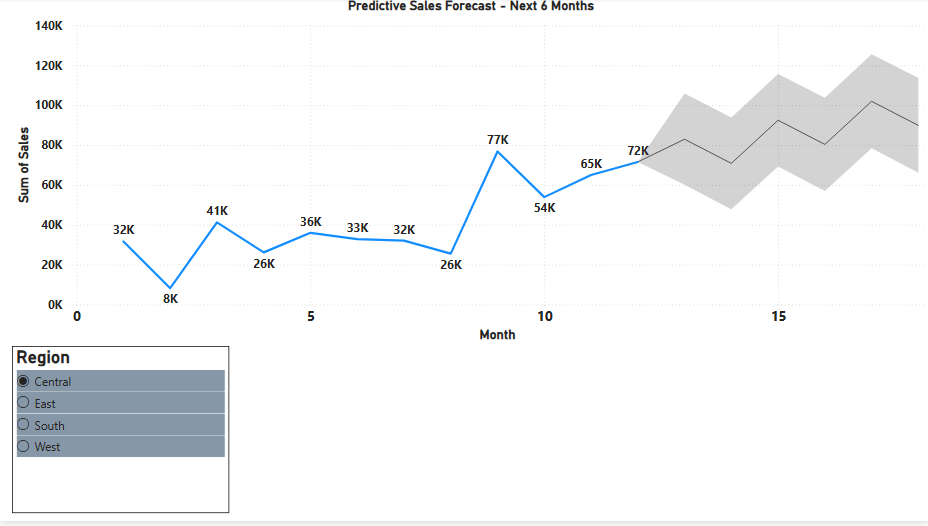

What the dashboard file says about the page in this screenshot:
{"tool":"powerbi","page":{"name":"Page 2","canvas":[1280,720],"ordinal":1},"visuals":[{"type":"lineChart","title":"Predictive Sales Forecast - Next 6 Months","fields":{"Y":["Sum(Superstore_Cleaned.Sales)"],"Category":["Superstore_Cleaned.Month"]},"box":[16.5,0,1263.5,479],"z":0},{"type":"listSlicer","fields":{"Values":["Superstore_Cleaned.Region"]},"box":[16.8,478.7,299,230.1],"z":1000}]}

Visuals, with their boxes in screenshot pixels (x1, y1, x2, y2), scaled from the page's 1280x720 canvas onto the 928x526 screenshot:
"Predictive Sales Forecast - Next 6 Months" lineChart: x1=12, y1=0, x2=927, y2=350
listSlicer - Superstore_Cleaned.Region: x1=12, y1=350, x2=229, y2=518
